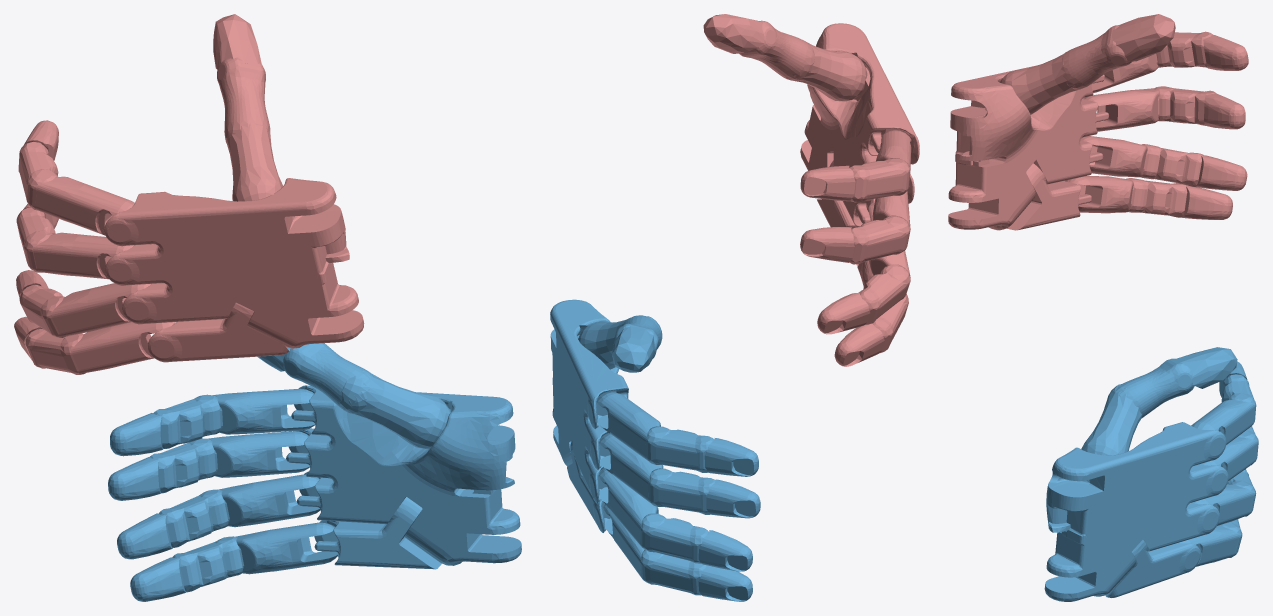
Rendered from CellPhone_pc.glb.
3 renders of one model, left to right at view 1: azimuth 30°, elevation 25°; view 2: azimuth 150°, elevation 25°; view 3: azimuth 270°, elevation 25°, orthographic. The views are drawn at different scales.
Visible parts, largest first — view 1: geom_1, geom_2; view 2: geom_1, geom_2; view 3: geom_2, geom_1.
Part boxes in pixels (x1,y1,x2,y2): geom_1: (108, 343, 521, 601); geom_2: (14, 14, 364, 374); geom_1: (550, 299, 760, 601); geom_2: (703, 14, 919, 366); geom_2: (948, 14, 1248, 230); geom_1: (1044, 347, 1258, 601).
Size of the model in its own units: 0.241 by 0.3145 by 0.1682.
